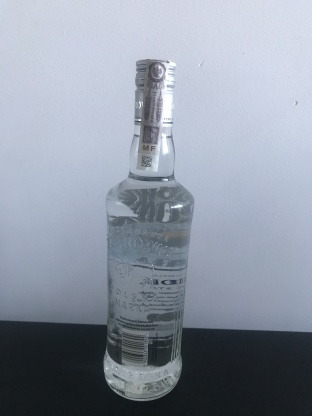nakretka: (132, 55, 178, 131)
